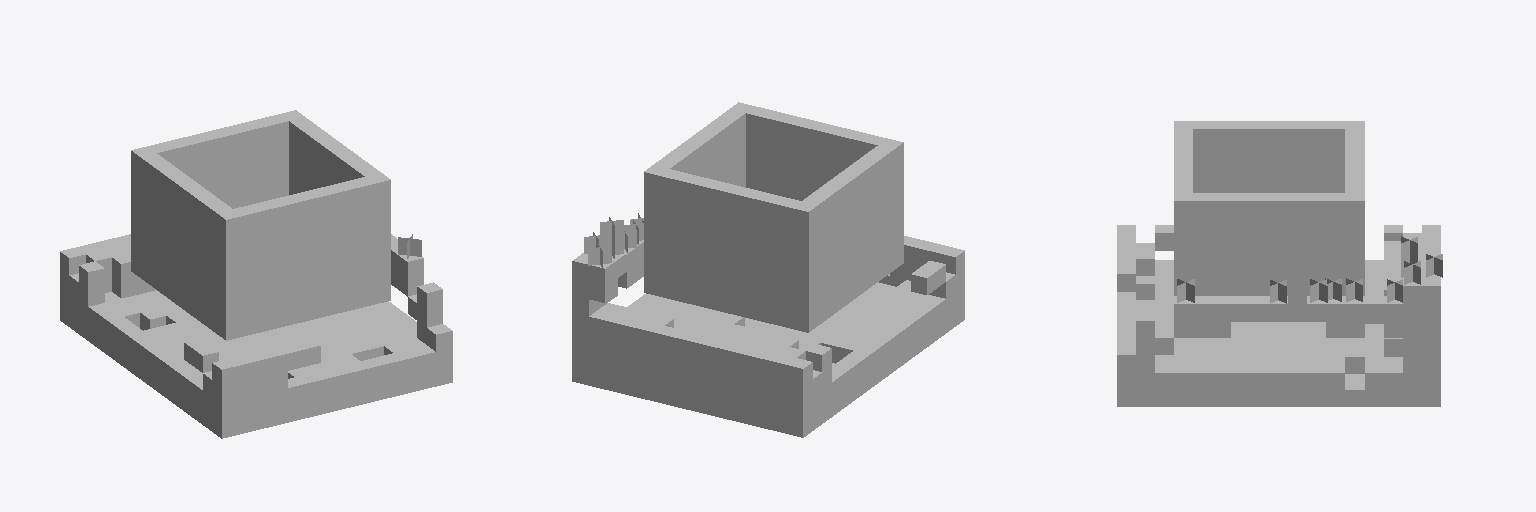
Rendered from House.obj.
3 renders of one model, left to right at view 1: azimuth 30°, elevation 25°; view 2: azimuth 150°, elevation 25°; view 3: azimuth 270°, elevation 25°, orthographic.
Visible parts, largest first — view 1: Trees__49_63_-85_to_62_319_-69; view 2: Trees__49_63_-85_to_62_319_-69; view 3: Trees__49_63_-85_to_62_319_-69.
Boxes of the visible parts, box(x1,y1,x2,y2) form: Trees__49_63_-85_to_62_319_-69: box(60, 110, 452, 438); Trees__49_63_-85_to_62_319_-69: box(572, 102, 964, 437); Trees__49_63_-85_to_62_319_-69: box(1117, 121, 1442, 406).
Size of the model in its own units: 14.04 by 11 by 17.13.